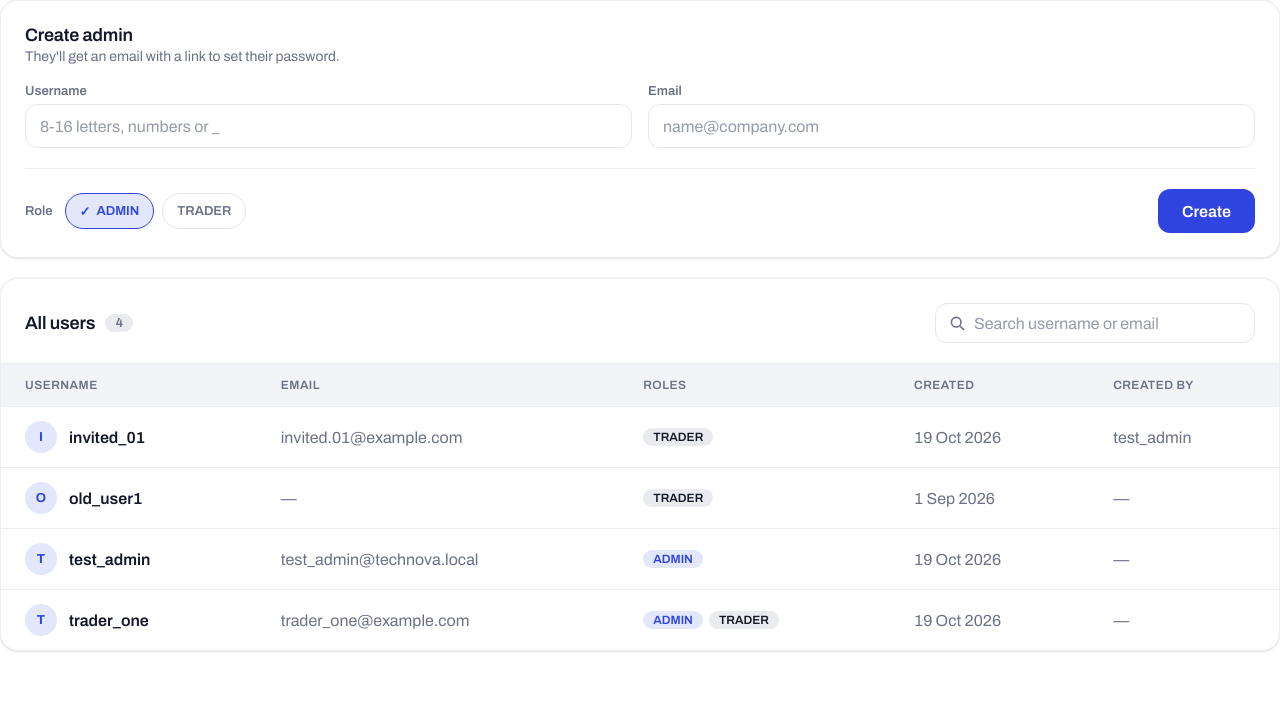
Test: AdminUsersComponent › search › says how many users match
In the search field with id "user-search": x=1095, y=323 [935,303,1255,343], type "trader"
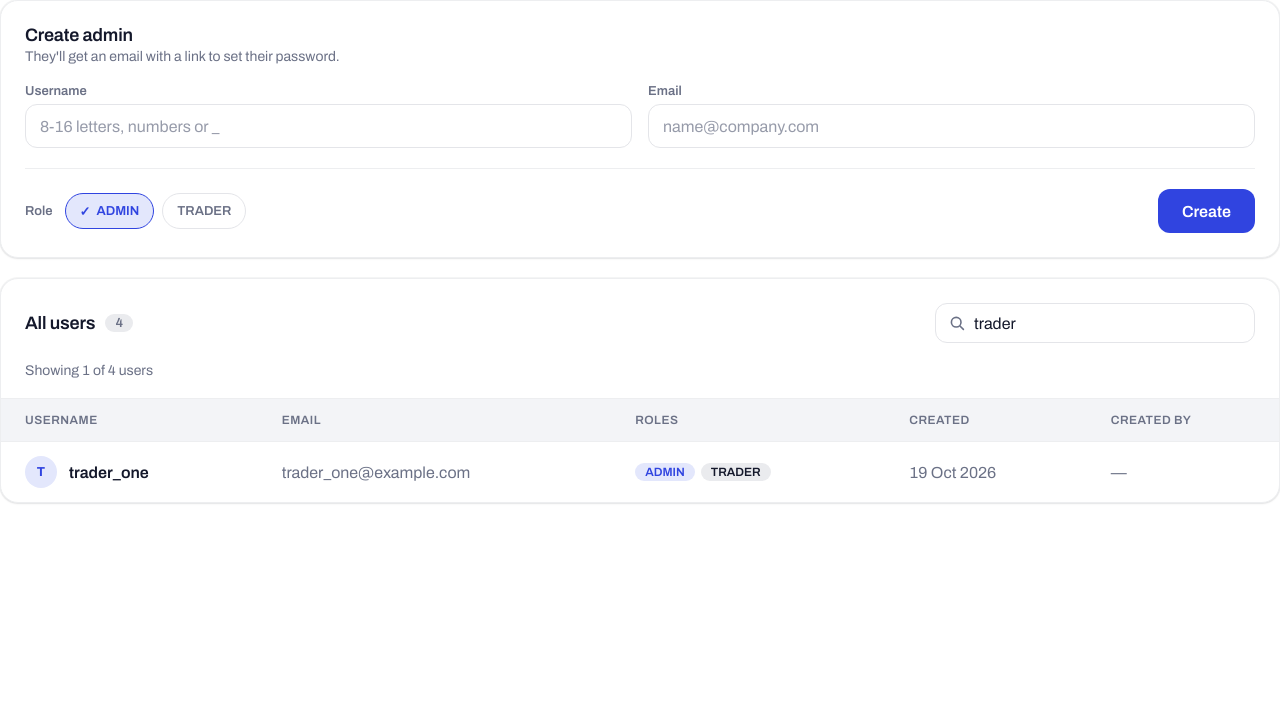
Expected: the text with class "result-count" reads "Showing 1 of 4 users", [25,363,153,378]
